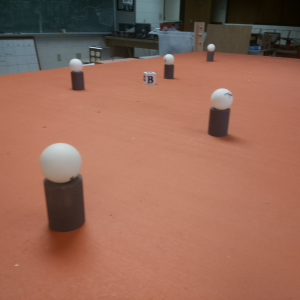obstacle: (37, 142, 89, 235), (208, 87, 232, 138), (67, 57, 88, 91), (162, 53, 177, 81), (207, 44, 216, 62)
